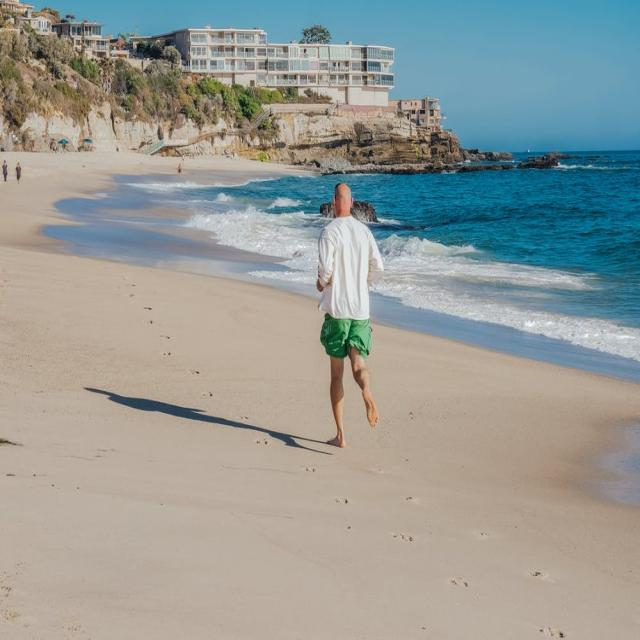running: (313, 181, 387, 448)
